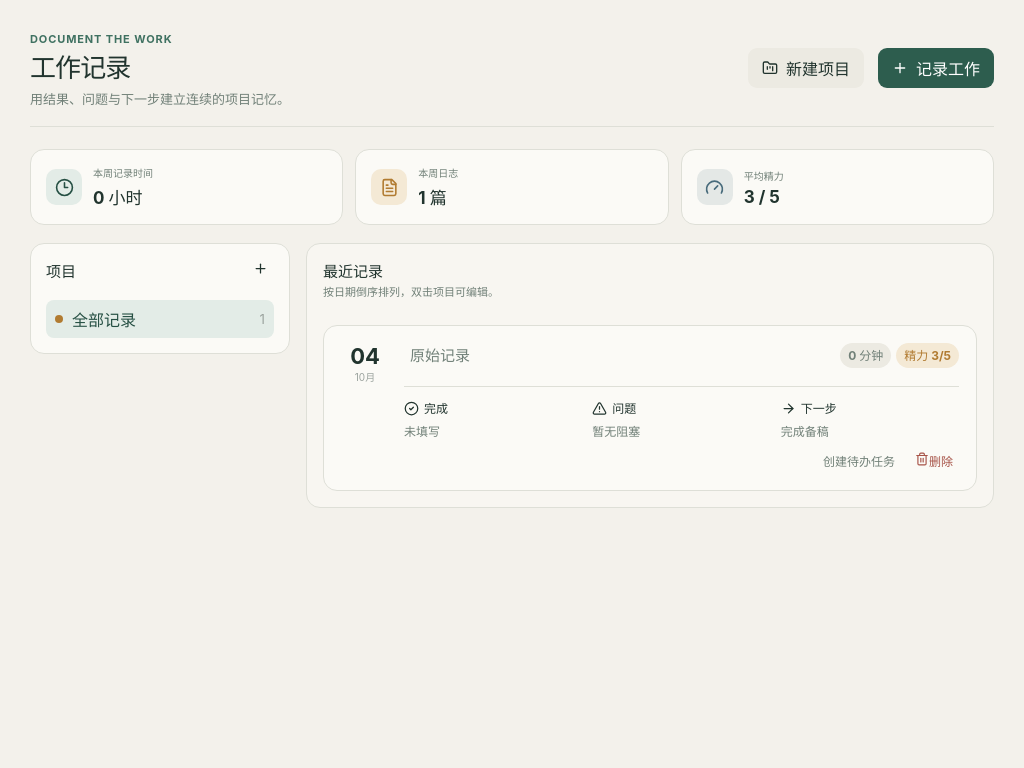
Test: 工作记录创建任务必须保存确认，原日志关联准确，重复打开编辑原任务
The image size is (1024, 768).
Click the button "创建待办任务" at (859, 462), box [817,451,901,472]
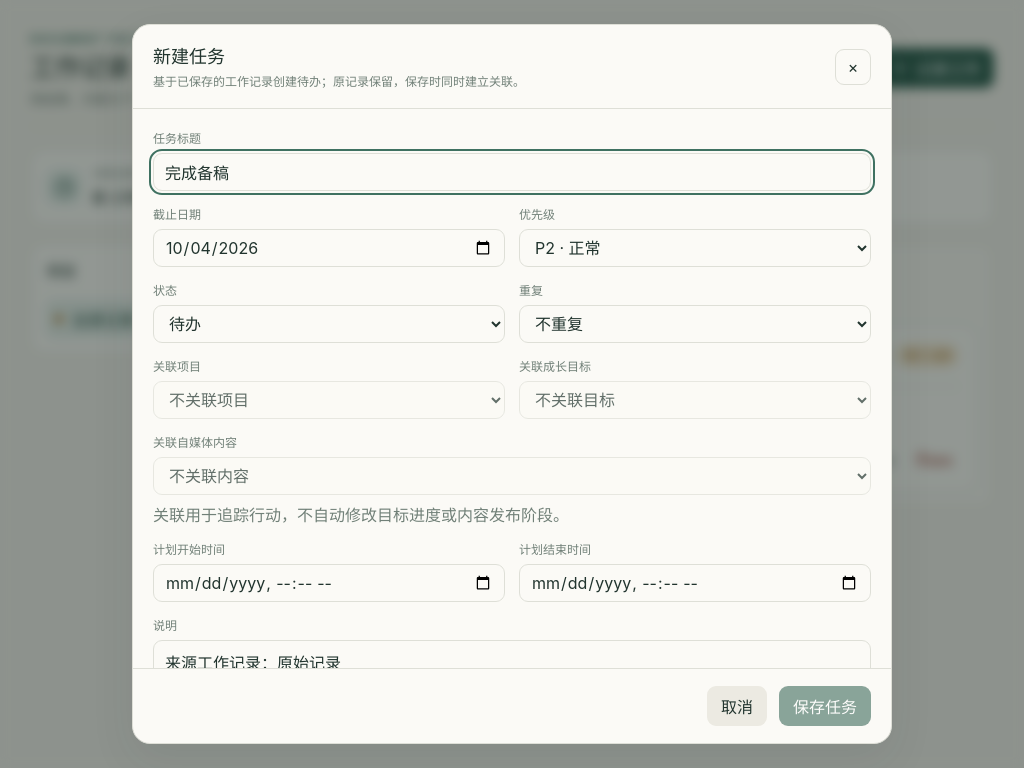
expect the field showing "完成备稿" is shown: met, box [153,153,871,191]
Click the button "取消" at (737, 706), box [707,686,767,726]
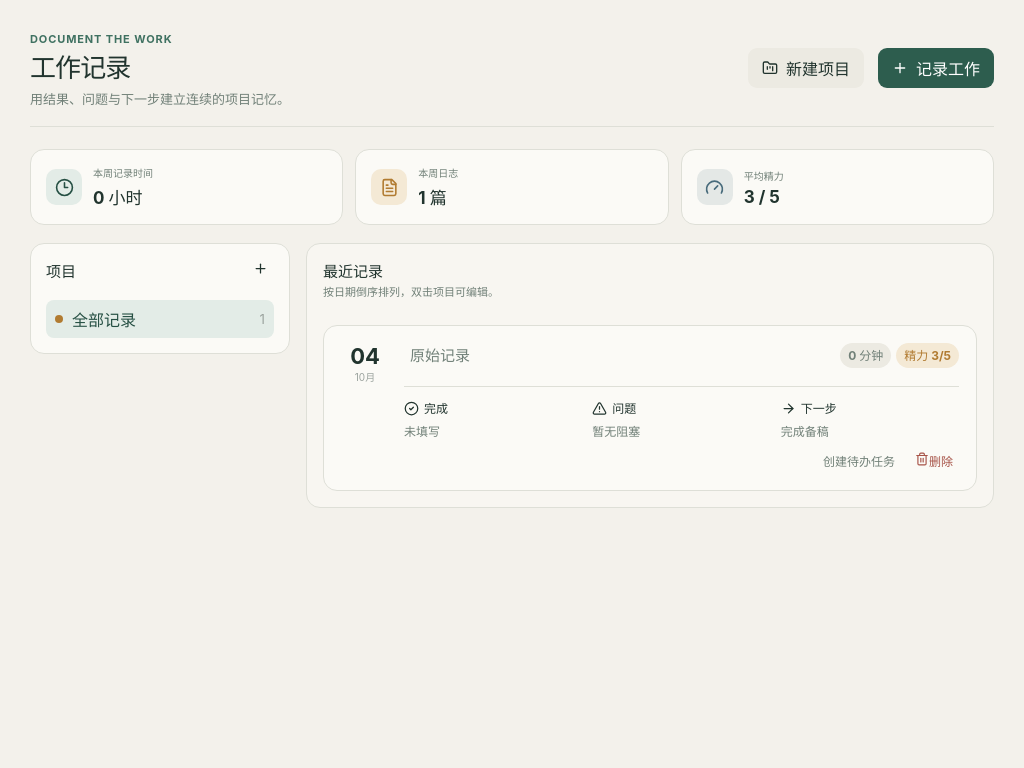
Click the button "创建待办任务" at (859, 462), box [817,451,901,472]
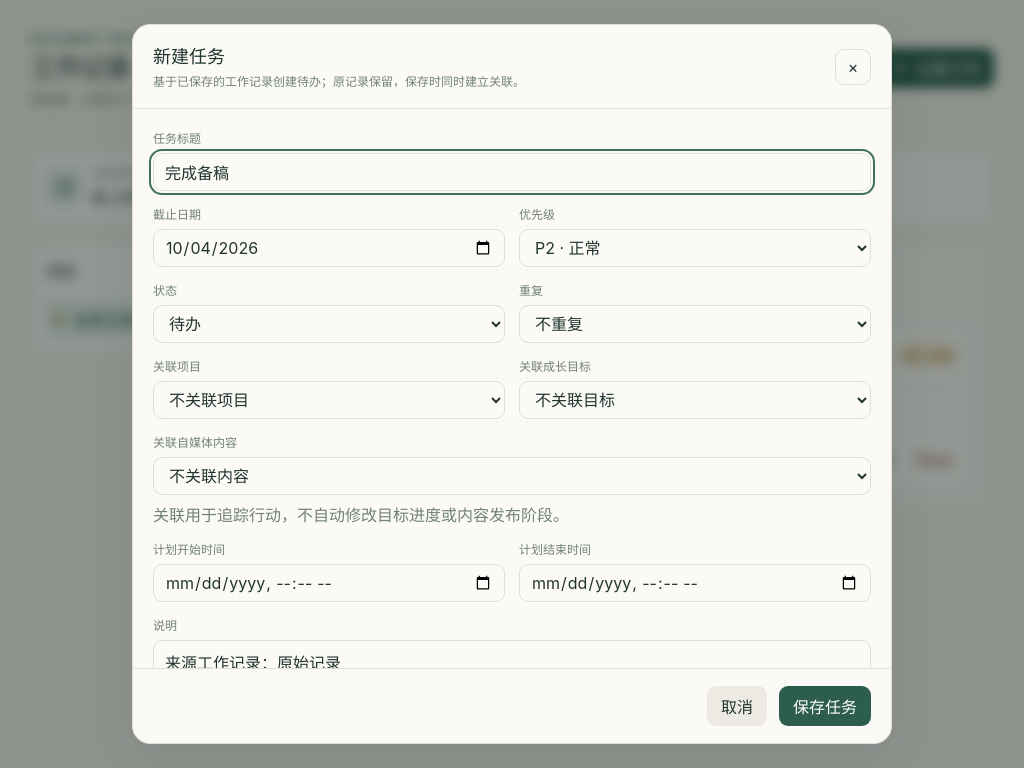
expect the button "保存任务" is enabled: met
Click the button "保存任务" at (825, 706), box [779,686,871,726]
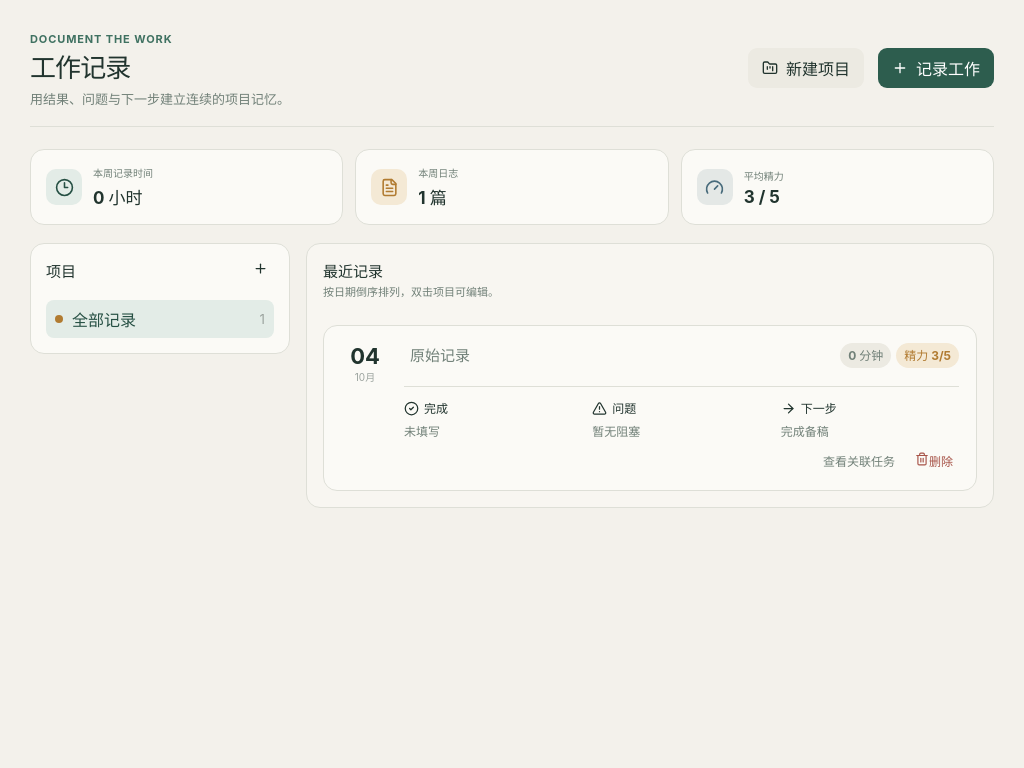
expect the button "查看关联任务" is shown: met
Click the button "查看关联任务" at (859, 462), box [817,451,901,472]
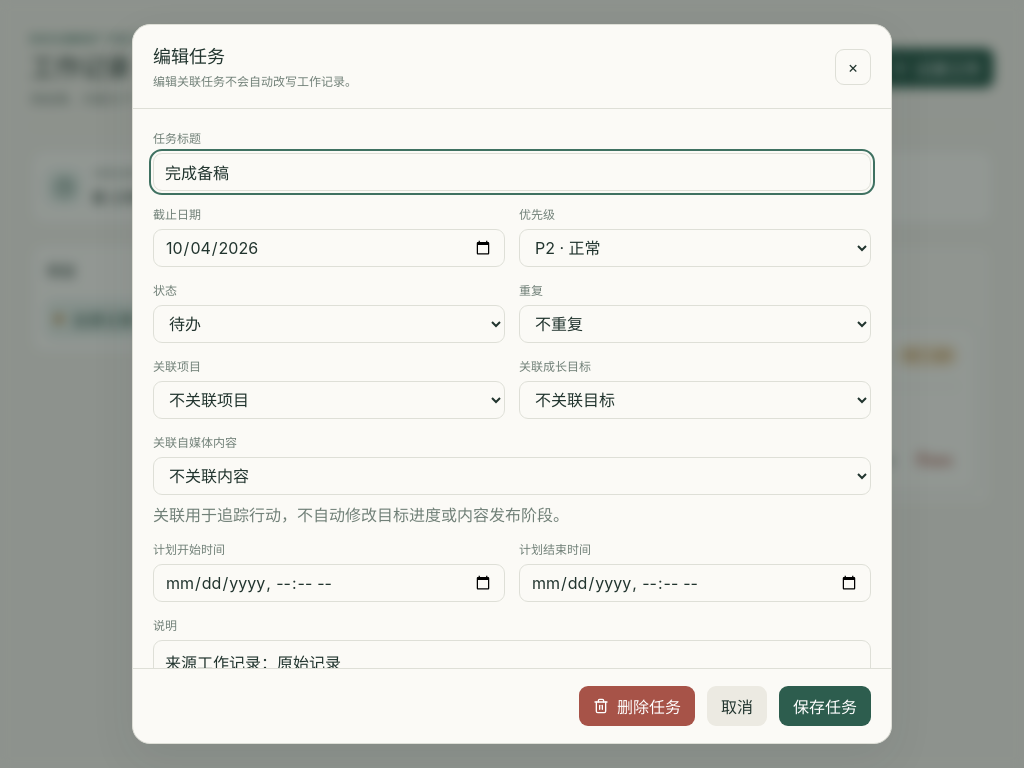
expect the heading "编辑任务" is shown: met, box [153,46,225,67]
